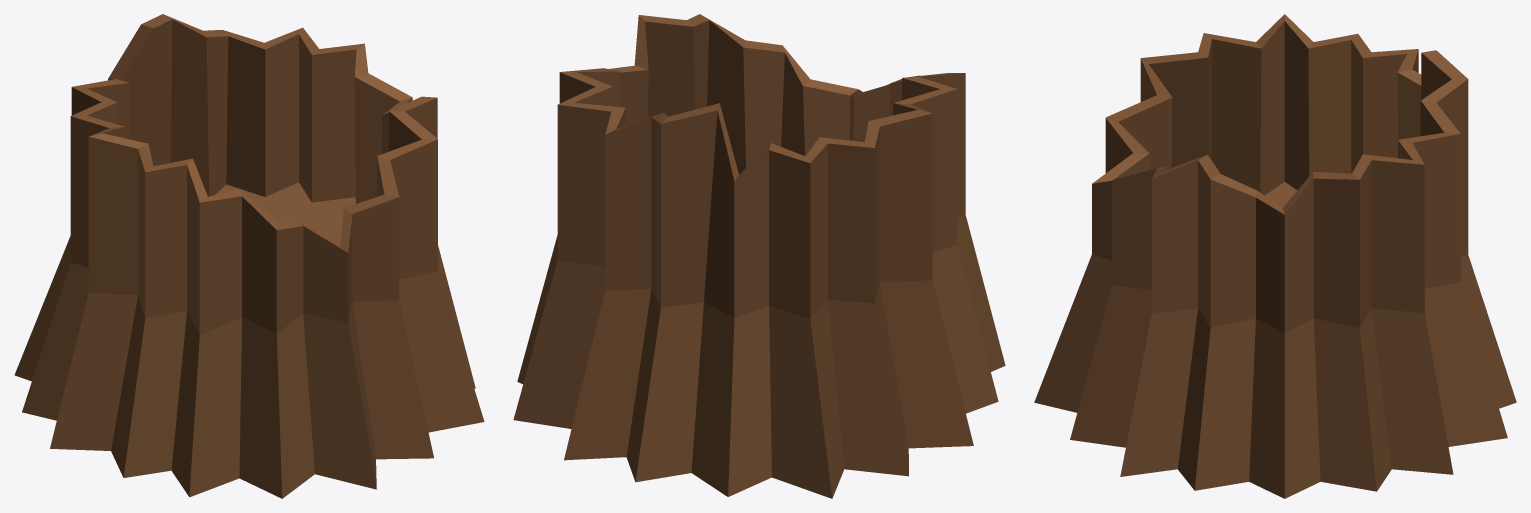
File: Tree_Trunk_6_Light_Brown.fbx
3 views of the same model, side by side, from view 1: azimuth 30°, elevation 25°; view 2: azimuth 150°, elevation 25°; view 3: azimuth 270°, elevation 25° (orthographic). The views are drawn at different scales.
Parts seen in each view (by area): view 1: Tree_Trunk_6_Light_Brown_Part_1, Tree_Trunk_6_Light_Brown_Part_2; view 2: Tree_Trunk_6_Light_Brown_Part_1, Tree_Trunk_6_Light_Brown_Part_2; view 3: Tree_Trunk_6_Light_Brown_Part_1, Tree_Trunk_6_Light_Brown_Part_2.
Part boxes in pixels (bbox=[...]): Tree_Trunk_6_Light_Brown_Part_1: bbox=[14, 19, 484, 498]; Tree_Trunk_6_Light_Brown_Part_2: bbox=[71, 14, 437, 252]; Tree_Trunk_6_Light_Brown_Part_1: bbox=[513, 20, 1005, 498]; Tree_Trunk_6_Light_Brown_Part_2: bbox=[558, 14, 963, 181]; Tree_Trunk_6_Light_Brown_Part_1: bbox=[1034, 21, 1516, 498]; Tree_Trunk_6_Light_Brown_Part_2: bbox=[1092, 14, 1467, 214].
Bounding box in the file's own units: 142 × 113 × 148.
